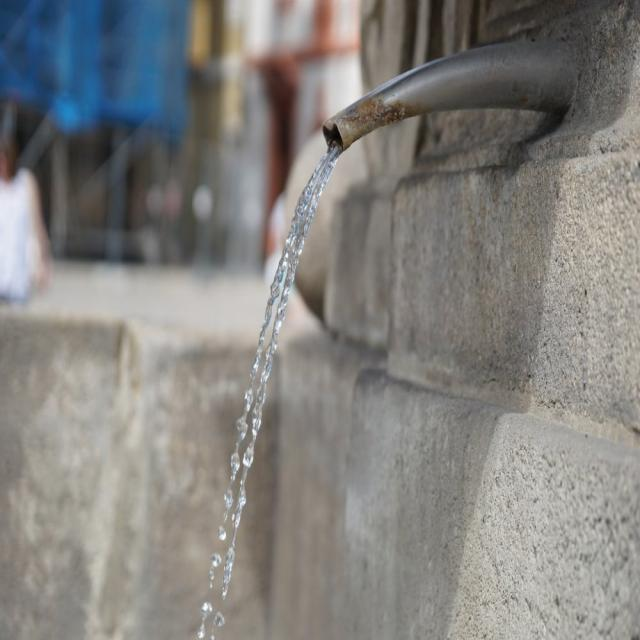leak: (219, 141, 341, 599)
